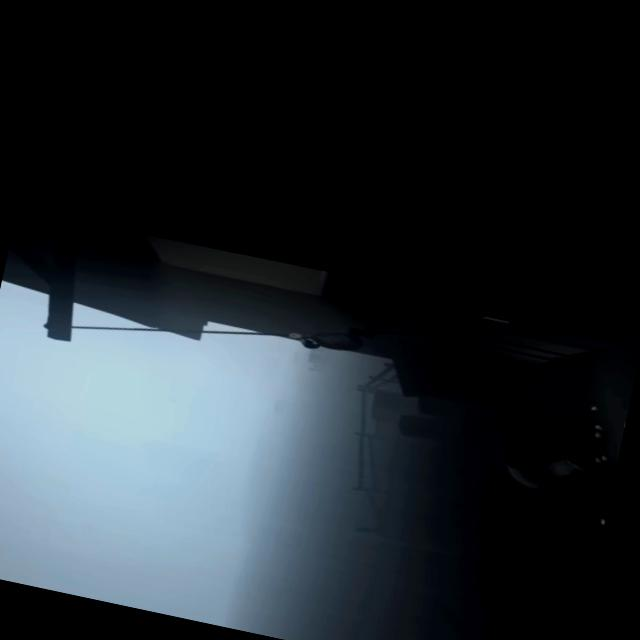boy: (288, 308, 376, 359)
